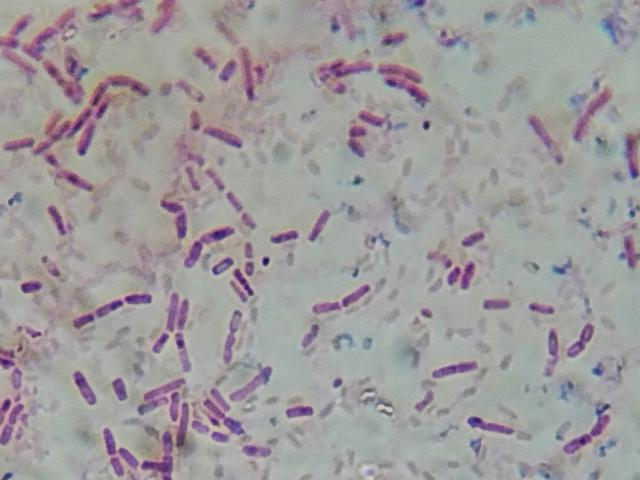E. coli: (526, 110, 563, 166), (229, 364, 278, 400), (577, 93, 610, 139), (430, 359, 481, 382), (72, 365, 99, 407), (237, 47, 258, 100), (622, 128, 640, 185), (305, 207, 334, 242), (45, 59, 77, 89), (204, 123, 244, 147), (467, 415, 517, 434), (342, 282, 375, 310), (387, 76, 428, 97), (150, 0, 172, 37), (174, 330, 196, 366), (202, 224, 237, 245), (111, 71, 148, 90), (563, 431, 591, 456), (43, 204, 67, 232), (284, 401, 315, 422), (144, 377, 187, 392), (183, 240, 203, 272), (623, 234, 640, 271), (99, 426, 122, 453), (458, 256, 475, 292), (215, 14, 238, 40), (544, 325, 561, 360), (381, 61, 418, 77), (190, 45, 215, 68), (125, 288, 150, 311), (271, 226, 296, 249), (224, 311, 246, 337), (173, 78, 200, 99), (0, 52, 28, 72), (220, 332, 238, 363), (198, 395, 221, 419), (53, 114, 78, 136), (6, 134, 32, 155), (33, 23, 56, 46), (301, 321, 322, 346), (64, 169, 90, 189), (380, 27, 406, 47), (79, 126, 98, 153), (463, 228, 490, 247), (179, 403, 191, 445), (480, 295, 508, 313), (526, 299, 554, 317), (94, 0, 125, 16), (102, 293, 125, 314), (313, 297, 338, 316), (6, 17, 32, 35), (73, 106, 92, 130), (418, 388, 437, 412), (186, 105, 201, 135), (217, 56, 231, 88), (161, 195, 184, 214), (236, 264, 251, 293), (15, 280, 46, 294), (114, 376, 132, 400), (204, 165, 222, 189), (226, 188, 243, 213), (49, 152, 69, 173), (172, 209, 187, 237), (212, 256, 234, 275), (11, 399, 27, 425), (359, 108, 382, 126), (592, 411, 610, 434), (155, 329, 172, 353), (448, 261, 462, 290), (243, 444, 274, 457), (159, 428, 175, 453), (41, 254, 60, 275), (323, 75, 341, 97), (335, 59, 370, 70), (209, 385, 228, 405), (76, 307, 94, 328), (184, 165, 198, 192), (348, 138, 366, 159), (88, 78, 105, 100), (168, 292, 179, 326), (241, 240, 258, 262), (228, 280, 243, 304), (120, 443, 134, 468), (161, 452, 173, 480), (139, 397, 163, 411), (145, 458, 167, 473), (243, 211, 258, 233), (111, 456, 124, 480), (180, 298, 193, 322), (578, 319, 590, 345), (59, 5, 76, 23), (34, 139, 53, 155), (27, 42, 41, 63), (566, 337, 580, 358), (1, 351, 19, 367), (0, 419, 11, 445), (210, 432, 226, 448), (10, 368, 24, 386), (324, 58, 340, 73), (168, 391, 177, 416), (0, 396, 9, 420), (0, 37, 17, 49), (96, 99, 108, 115), (351, 123, 367, 135), (197, 419, 209, 434), (245, 257, 255, 272), (290, 46, 292, 46)
